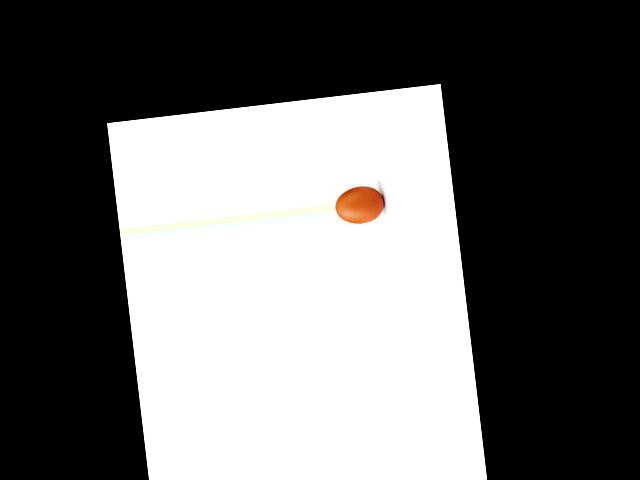egg: (333, 184, 386, 225)
